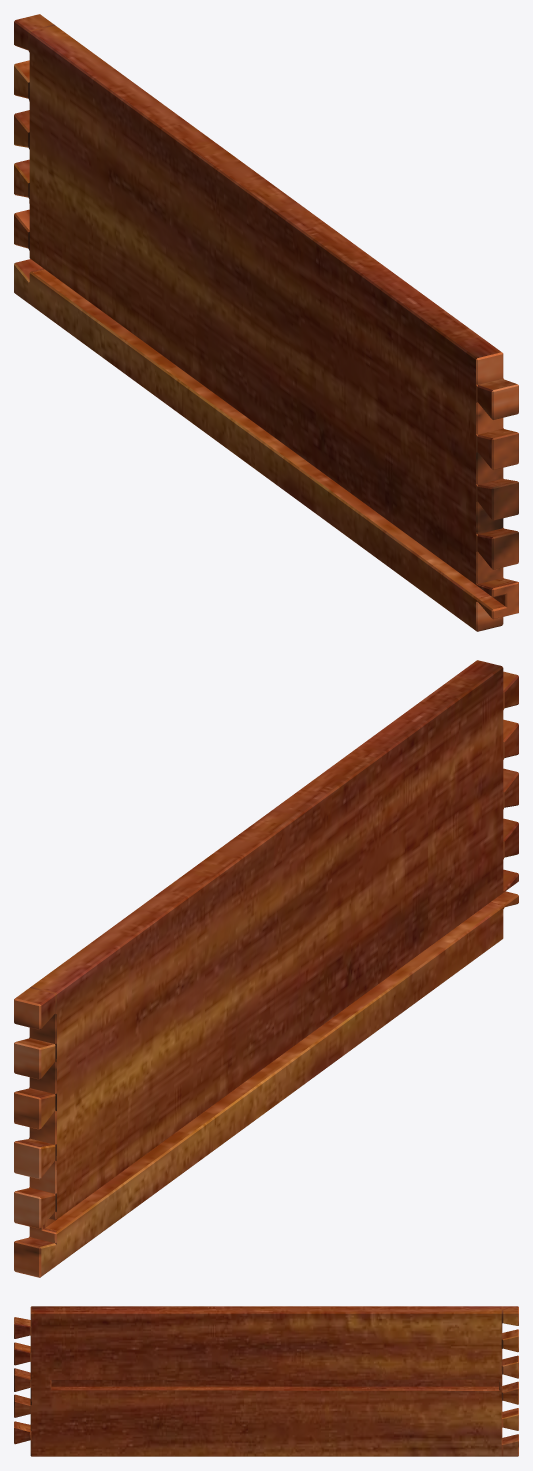
File: SJ_J_chouce_01.FBX
3 renders of one model, top to bottom at view 1: azimuth 30°, elevation 25°; view 2: azimuth 150°, elevation 25°; view 3: azimuth 270°, elevation 25°, orthographic. The views are drawn at different scales.
Parts seen in each view (by area): view 1: SJ_J_chouce_01; view 2: SJ_J_chouce_01; view 3: SJ_J_chouce_01.
Part boxes in pixels (box(x1,y1,x2,y2)): SJ_J_chouce_01: box(14, 14, 518, 631); SJ_J_chouce_01: box(14, 660, 518, 1277); SJ_J_chouce_01: box(14, 1306, 518, 1456).
Bounding box in the file's own units: 1.2 × 11.5 × 36.51.
